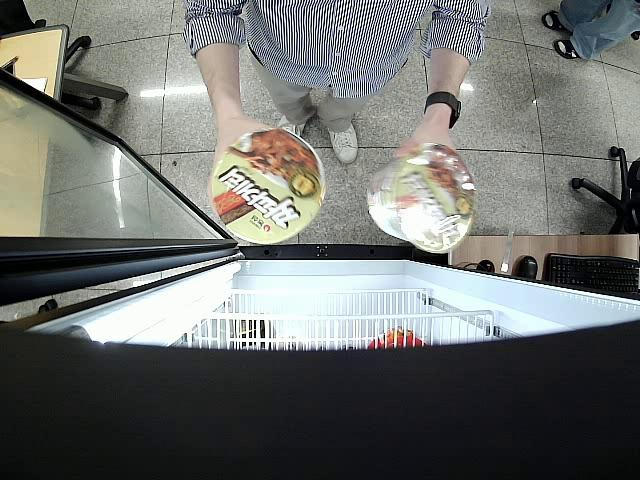00_hand: (206, 113, 272, 204), (393, 125, 458, 163)
03_chapagetti_L: (213, 128, 327, 242), (368, 146, 474, 250)
